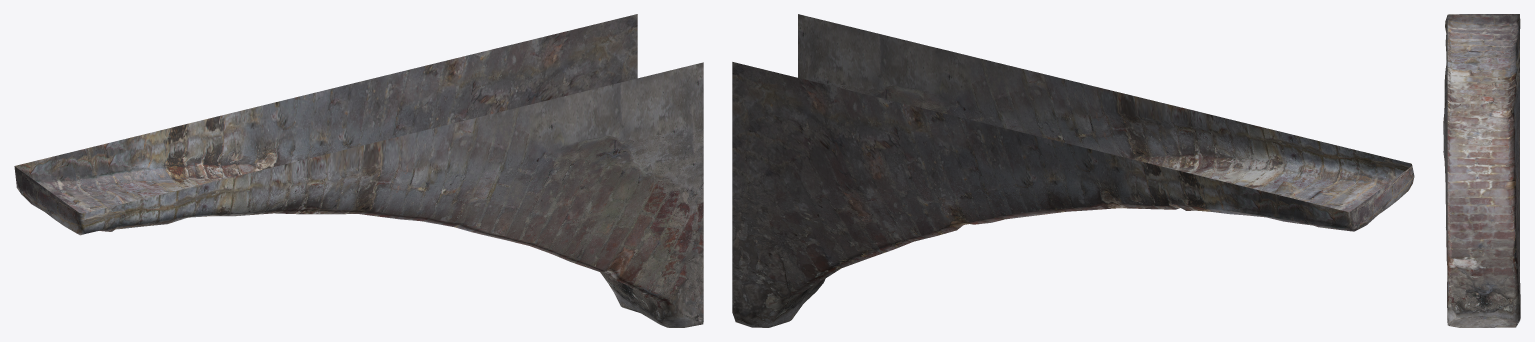
The model's file is sm_CryptArch_01_02.fbx.
The picture shows the model from 3 angles, left to right: view 1: azimuth 30°, elevation 25°; view 2: azimuth 150°, elevation 25°; view 3: azimuth 270°, elevation 25°; orthographic projection. The views are drawn at different scales.
Parts seen in each view (by area): view 1: sm_CryptArch_01_02_LOD0; view 2: sm_CryptArch_01_02_LOD0; view 3: sm_CryptArch_01_02_LOD0.
Part boxes in pixels (bbox=[...]): sm_CryptArch_01_02_LOD0: bbox=[14, 14, 703, 327]; sm_CryptArch_01_02_LOD0: bbox=[732, 14, 1414, 327]; sm_CryptArch_01_02_LOD0: bbox=[1443, 14, 1520, 327].
Size of the model in its own units: 308 by 60.17 by 127.
